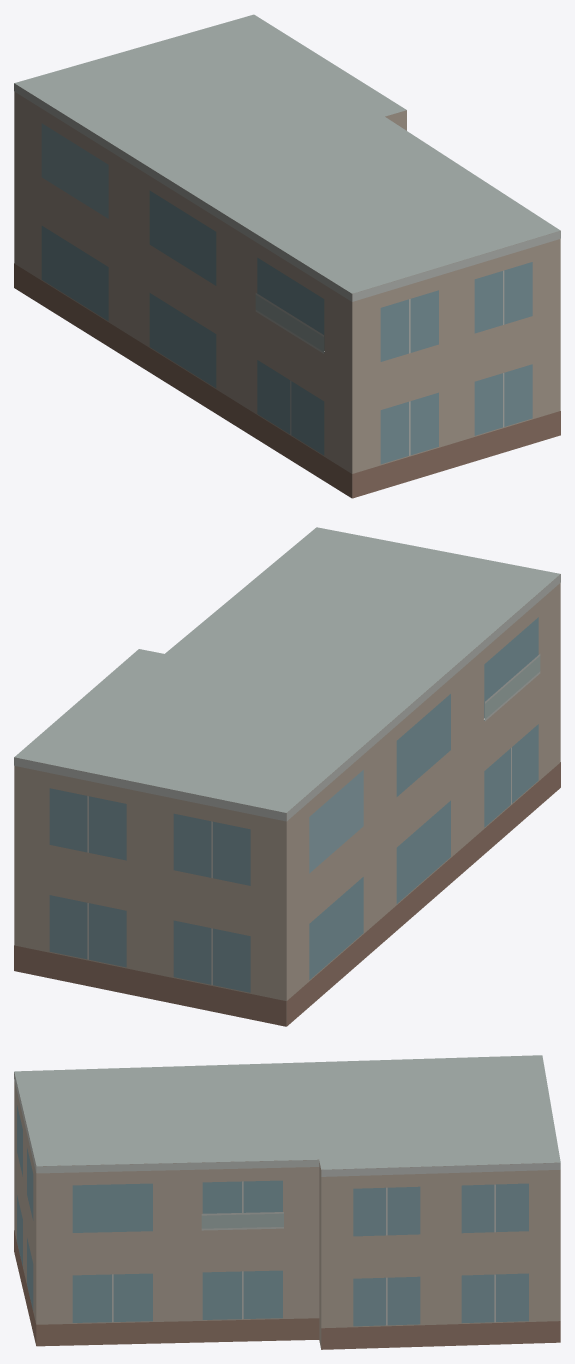
File: survey-upis-32739603.glb
3 views of the same model, one above another, from view 1: azimuth 30°, elevation 25°; view 2: azimuth 150°, elevation 25°; view 3: azimuth 270°, elevation 25° (orthographic). The views are drawn at different scales.
Parts seen in each view (by area): view 1: survey-upis-32739603.tmp; view 2: survey-upis-32739603.tmp; view 3: survey-upis-32739603.tmp.
Part boxes in pixels (bbox=[...]): survey-upis-32739603.tmp: bbox=[14, 14, 560, 498]; survey-upis-32739603.tmp: bbox=[14, 527, 560, 1026]; survey-upis-32739603.tmp: bbox=[14, 1055, 560, 1349].
Size of the model in its own units: 8.34 by 6.1 by 16.8.
